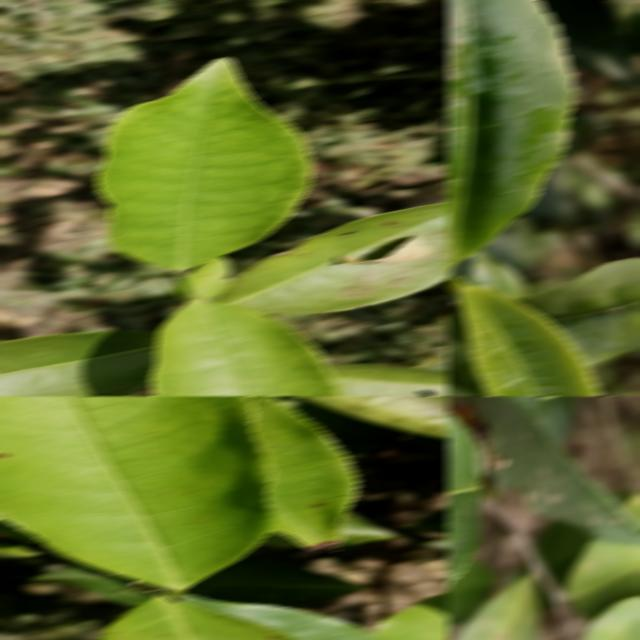Leaf: (0, 396, 275, 596), (96, 58, 314, 271), (446, 0, 576, 270), (213, 202, 450, 314), (466, 396, 640, 545), (150, 299, 344, 396), (453, 281, 604, 396), (249, 396, 358, 550), (522, 257, 640, 363), (0, 330, 158, 396), (186, 556, 363, 607), (185, 595, 384, 640), (298, 396, 450, 439), (562, 538, 640, 618), (453, 575, 541, 640), (32, 567, 155, 605), (328, 364, 450, 396), (373, 590, 450, 640), (446, 560, 496, 627), (580, 595, 640, 640)
